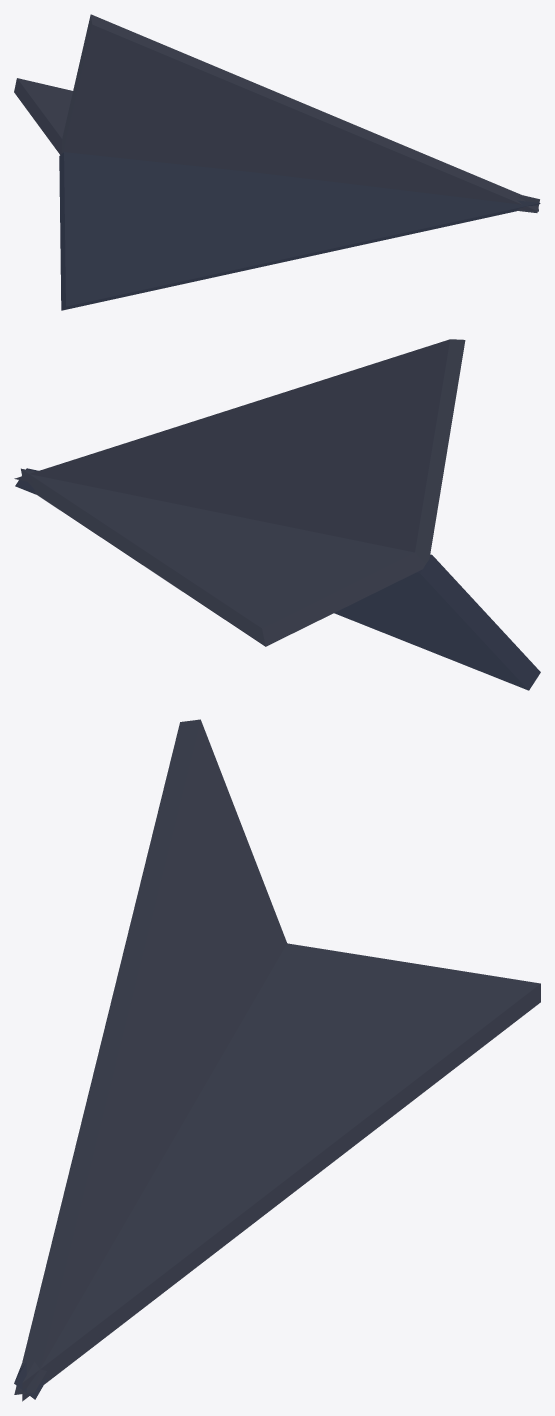
The model's file is sat_paperplane.glb.
3 views of the same model, one above another, from view 1: azimuth 30°, elevation 25°; view 2: azimuth 150°, elevation 25°; view 3: azimuth 270°, elevation 25° (orthographic). The views are drawn at different scales.
Parts seen in each view (by area): view 1: keel_ol, wing-1.001_ol, wing1.001_ol; view 2: wing-1.001_ol, wing1.001_ol, keel_ol; view 3: wing1.001_ol, wing-1.001_ol.
Boxes of the visible parts, x1,y1,x2,y2 form: keel_ol: (59,152,540,310); wing-1.001_ol: (62,14,538,211); wing1.001_ol: (14,78,539,212); wing-1.001_ol: (14,339,465,563); wing1.001_ol: (21,468,425,646); keel_ol: (15,468,540,690); wing1.001_ol: (22,943,540,1401); wing-1.001_ol: (14,719,287,1394).
Bounding box in the file's own units: 1.02 × 0.6048 × 0.6826.
